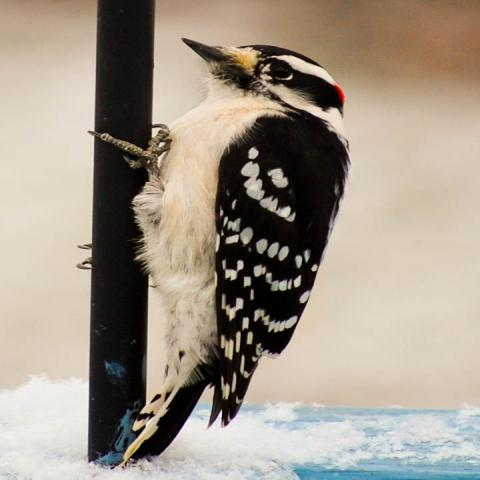bird: (77, 35, 353, 469)
